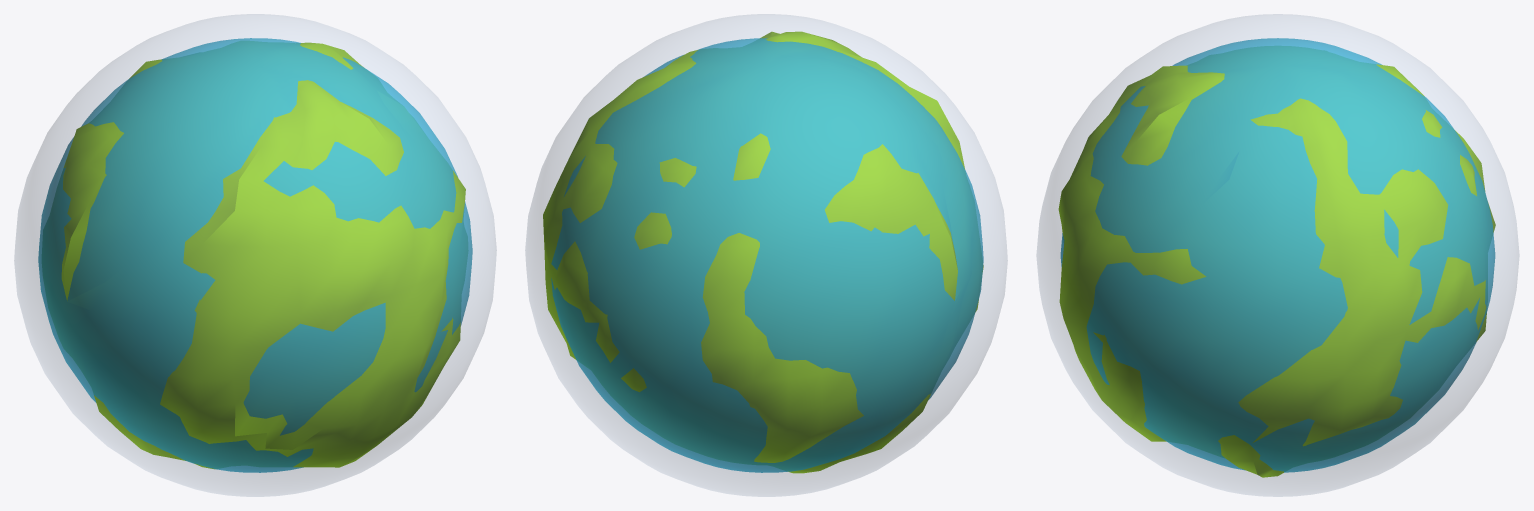
File: planet2.glb
The picture shows the model from 3 angles, left to right: view 1: azimuth 30°, elevation 25°; view 2: azimuth 150°, elevation 25°; view 3: azimuth 270°, elevation 25°; orthographic projection.
Visible parts, largest first — view 1: Sphere.1, Sphere, Sphere.2; view 2: Sphere.1, Sphere, Sphere.2; view 3: Sphere.1, Sphere, Sphere.2.
Boxes of the visible parts, bbox=[...] form: Sphere.1: bbox=[14, 14, 496, 496]; Sphere: bbox=[38, 38, 472, 472]; Sphere.2: bbox=[61, 42, 465, 469]; Sphere.1: bbox=[525, 14, 1007, 496]; Sphere: bbox=[551, 38, 983, 472]; Sphere.2: bbox=[543, 31, 983, 473]; Sphere.1: bbox=[1036, 14, 1519, 496]; Sphere: bbox=[1060, 38, 1495, 472]; Sphere.2: bbox=[1058, 64, 1495, 477].
Size of the model in its own units: 100 by 100 by 100.
